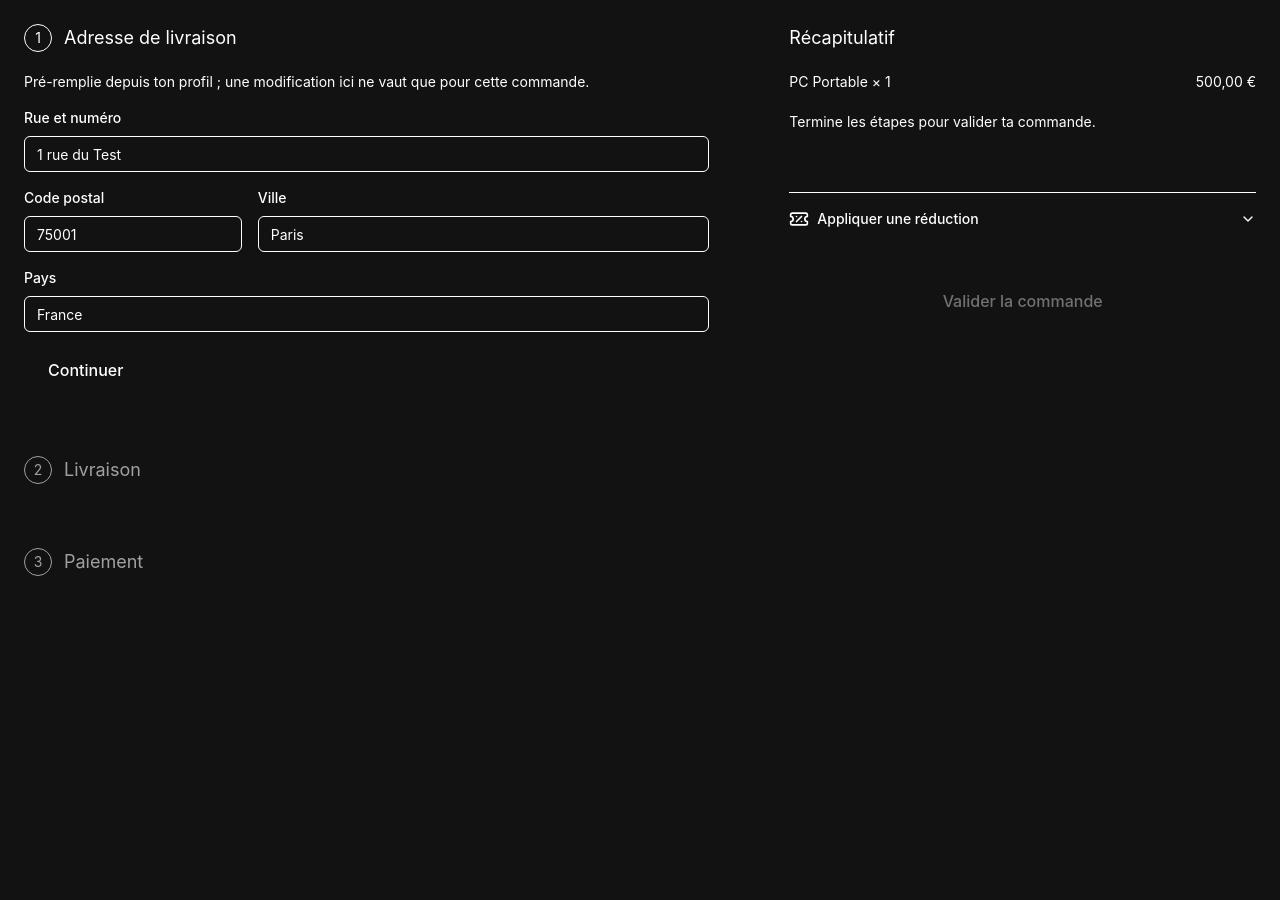
Test: CheckoutFlow › offers the four payment methods and never a card number field
Click the button "Continuer" at coordinates (86, 370), box [24,348,147,392]
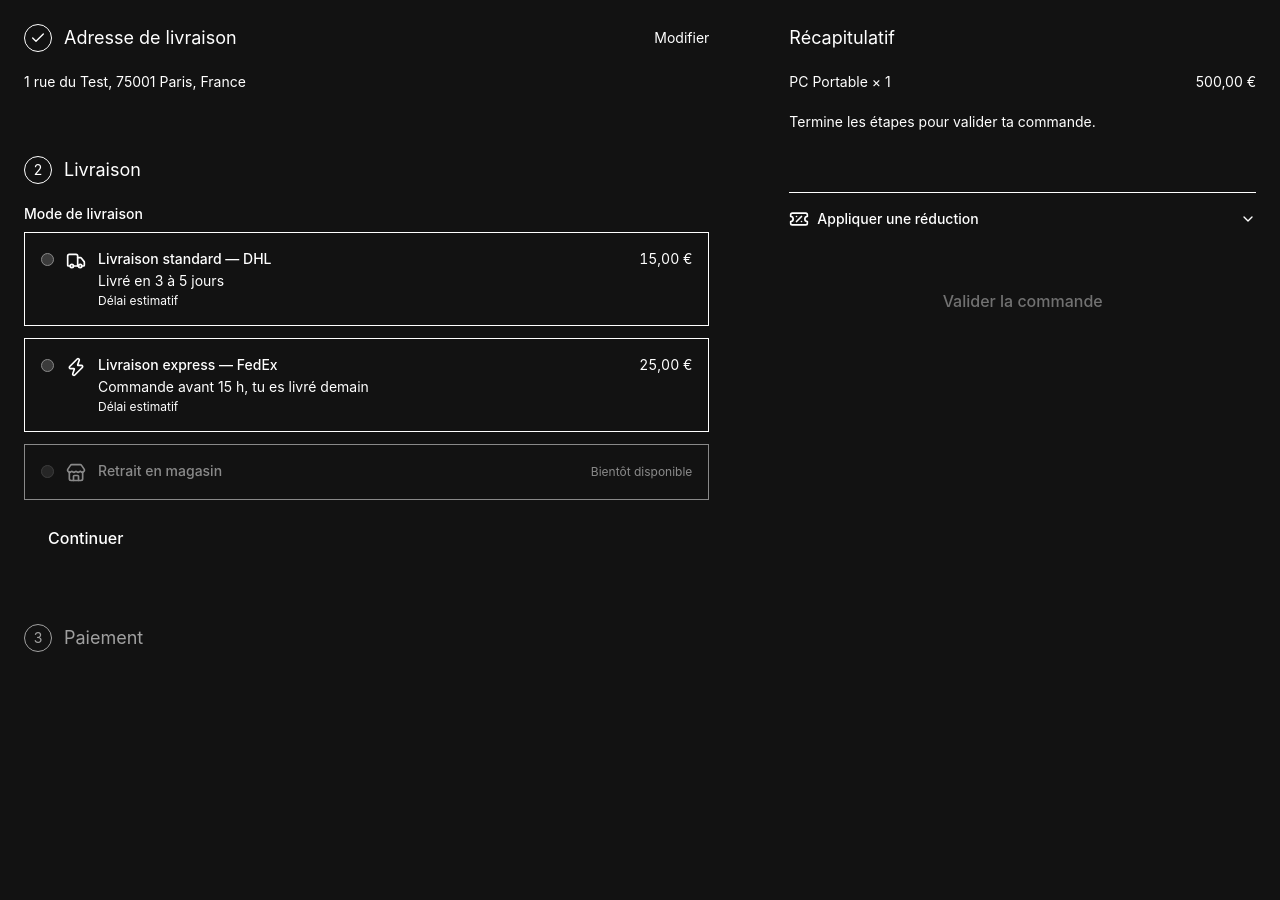
Click the radio button labelled "Livraison standard — DHL" at coordinates (48, 260), box [41,253,54,266]
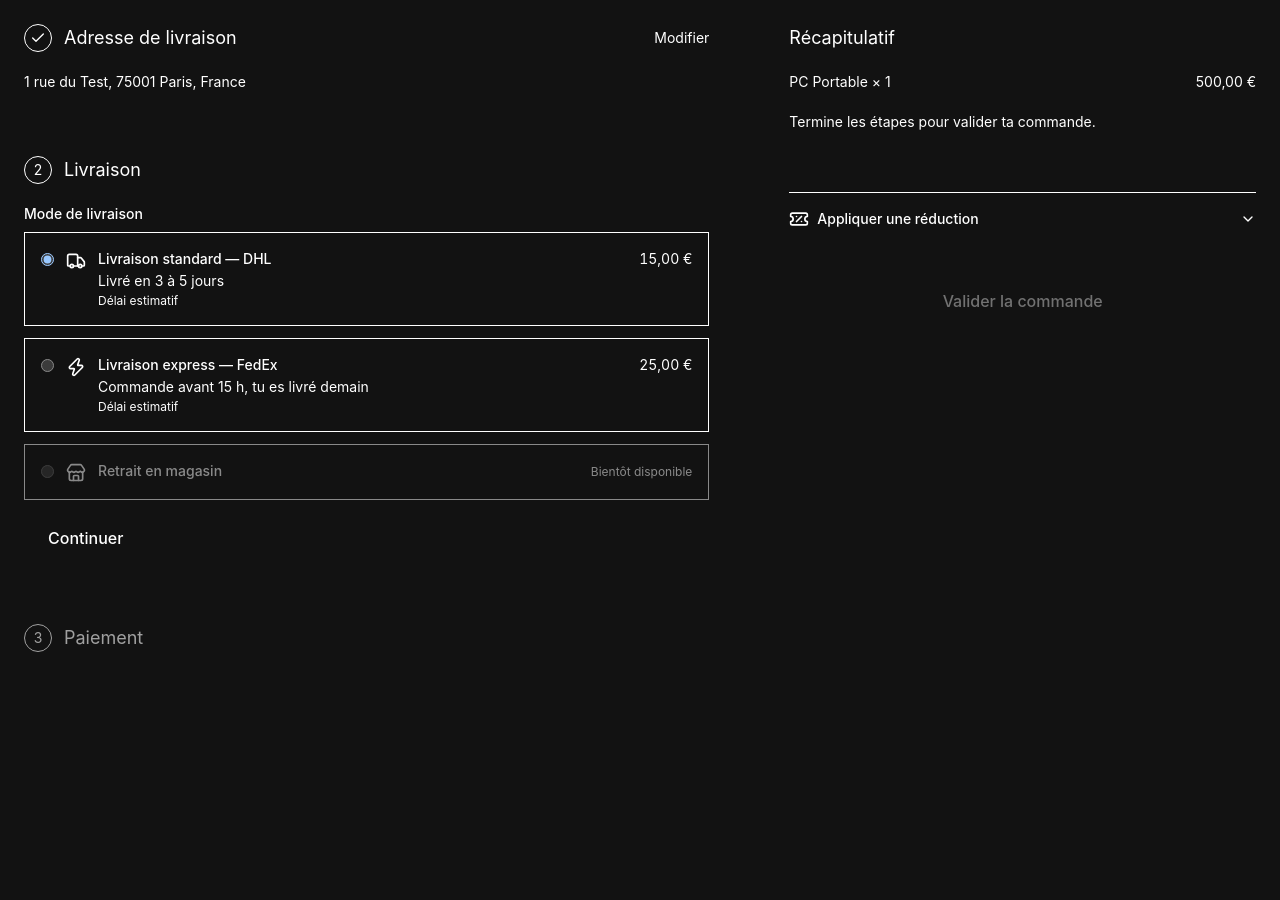
Click the button "Continuer" at coordinates (86, 538), box [24,516,147,560]
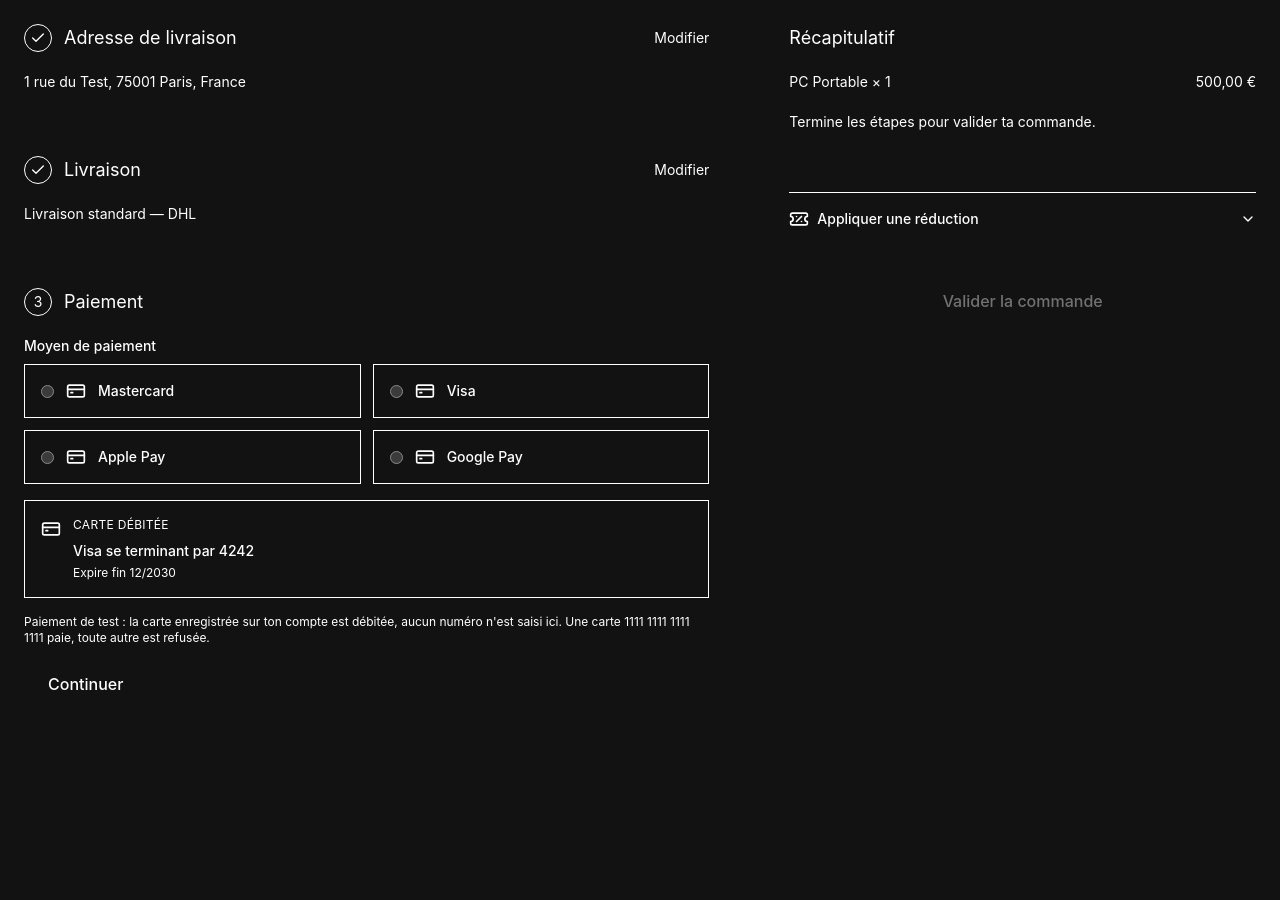
Expected: the radio button labelled "Mastercard" is shown, [41,384,54,398]
Expected: the radio button labelled "Visa" is shown, [390,384,403,398]
Expected: the radio button labelled "Apple Pay" is shown, [41,450,54,464]
